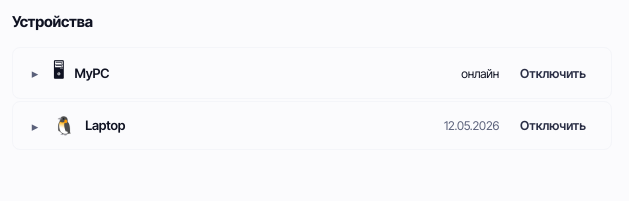
Test: DevicesTab › expands device row and shows folder list
Expected: the text "MyPC" is shown, x1=75 y1=64 x2=109 y2=80
Click the button "▸" next to "MyPC" at {"x": 35, "y": 73}, box x1=27 y1=65 x2=43 y2=81
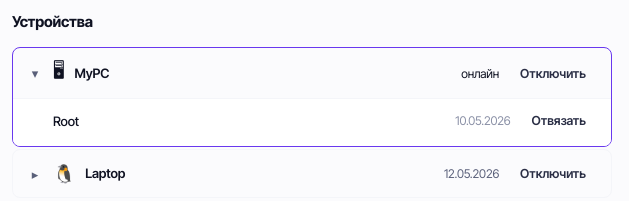
Expected: the text "Root" is shown, x1=53 y1=112 x2=79 y2=128
